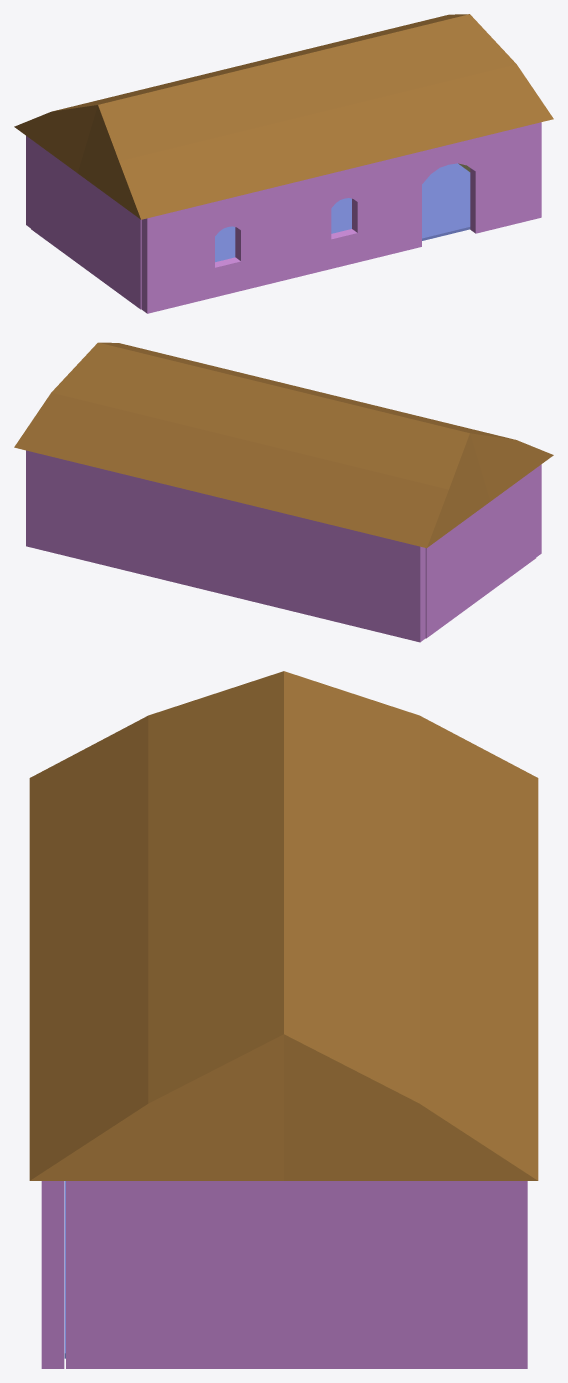
The model's file is house1.glb.
3 views of the same model, one above another, from view 1: azimuth 30°, elevation 25°; view 2: azimuth 150°, elevation 25°; view 3: azimuth 270°, elevation 25° (orthographic). The views are drawn at different scales.
Visible parts, largest first — view 1: Cube, wall front, wall left, floor, wall back; view 2: Cube, wall back, wall left, wall front; view 3: Cube, wall right, wall front, wall back.
Part boxes in pixels (x1=…): Cube: x1=14, y1=14, x2=553, y2=219; wall front: x1=141, y1=122, x2=541, y2=313; wall left: x1=31, y1=139, x2=141, y2=309; floor: x1=215, y1=163, x2=470, y2=262; wall back: x1=26, y1=136, x2=30, y2=228; Cube: x1=14, y1=342, x2=553, y2=548; wall back: x1=26, y1=450, x2=425, y2=642; wall left: x1=425, y1=468, x2=536, y2=638; wall front: x1=536, y1=464, x2=541, y2=556; Cube: x1=29, y1=671, x2=538, y2=1180; wall right: x1=66, y1=1181, x2=504, y2=1368; wall front: x1=41, y1=1181, x2=64, y2=1368; wall back: x1=505, y1=1181, x2=527, y2=1368.
Size of the model in its own units: 8.77 by 3.29 by 4.68.
